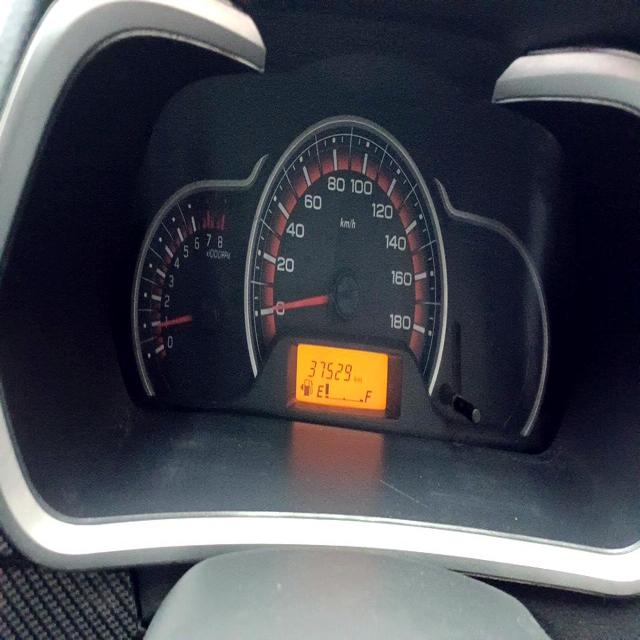odometer: (307, 355, 353, 384)
